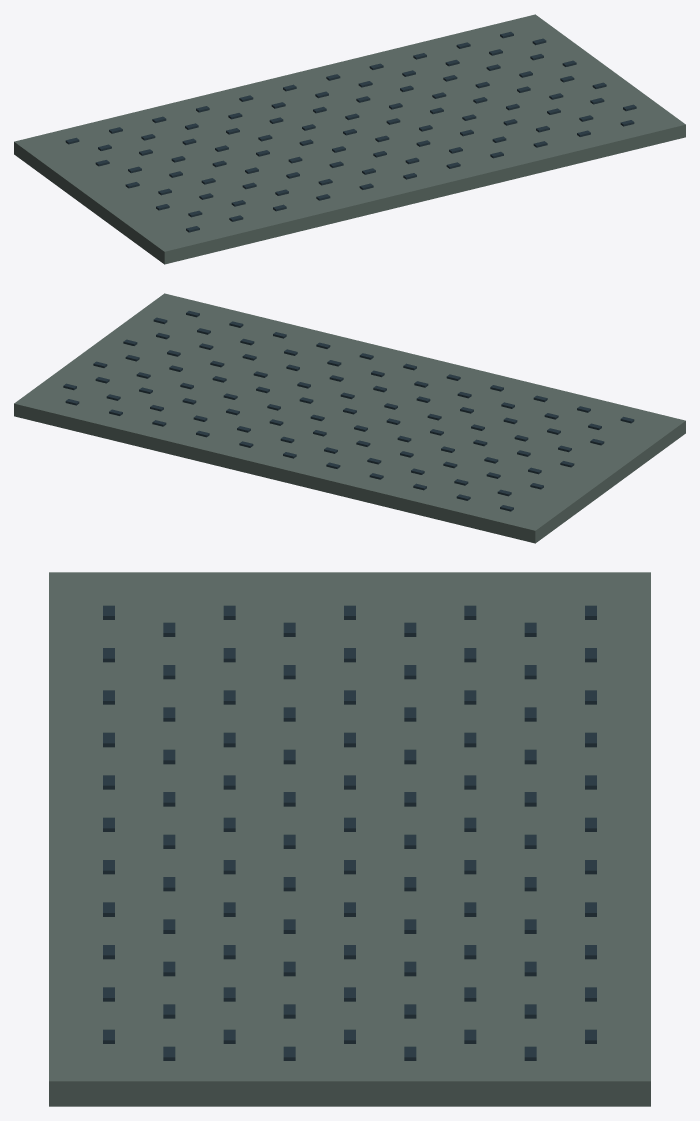
The model's file is scendance-plan-ground-protection-mats.glb.
The picture shows the model from 3 angles, top to bottom: view 1: azimuth 30°, elevation 25°; view 2: azimuth 150°, elevation 25°; view 3: azimuth 270°, elevation 25°; orthographic projection. The views are drawn at different scales.
Size of the model in its own units: 2.4 by 0.0645 by 1.2.
